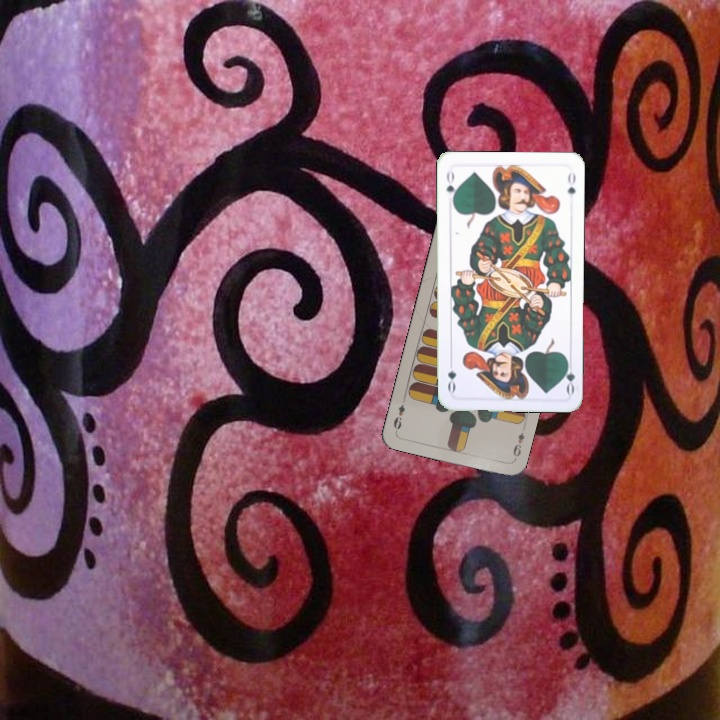E9: (509, 424, 527, 464)
GO: (559, 355, 577, 396), (442, 166, 459, 207)
